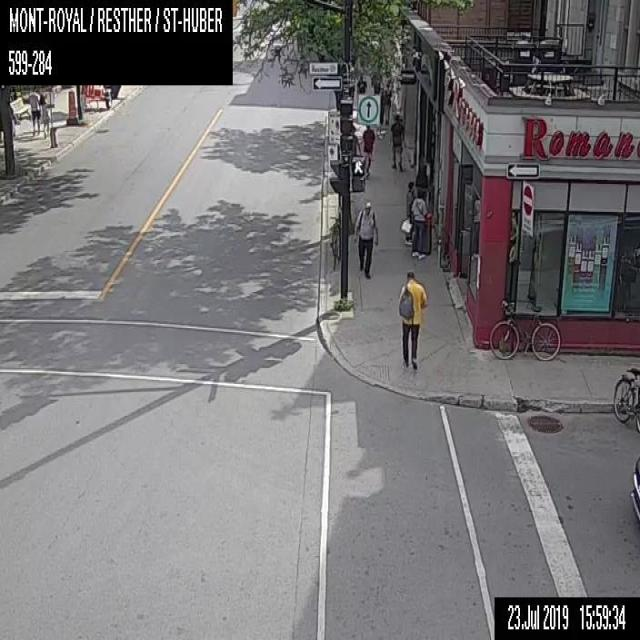construction: (68, 89, 75, 118)
pedestrian: (397, 271, 427, 368), (353, 201, 378, 278), (410, 192, 427, 260), (388, 114, 404, 171), (401, 181, 414, 245), (361, 122, 374, 179), (27, 84, 40, 136), (39, 92, 54, 136), (383, 92, 391, 125), (356, 75, 366, 92)
vehicle: (629, 457, 639, 523)
